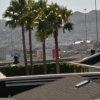Palm tree: (4, 4, 73, 63)
